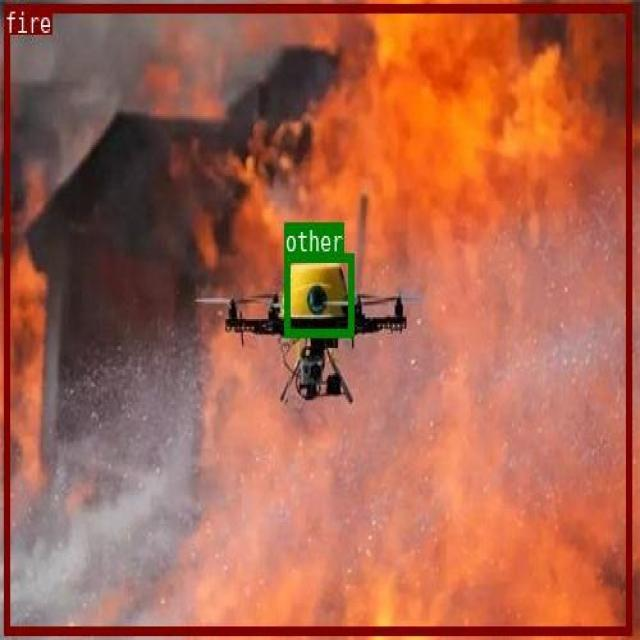fire: (4, 3, 630, 634)
